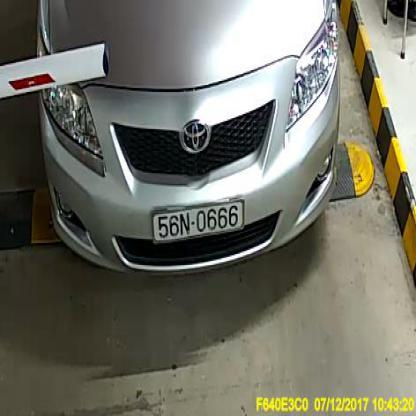biensoxe: (152, 199, 244, 242)
